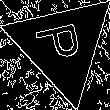P_E: (34, 22, 90, 69)
